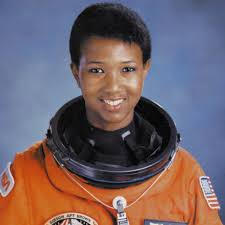black_female: (62, 6, 165, 137)
